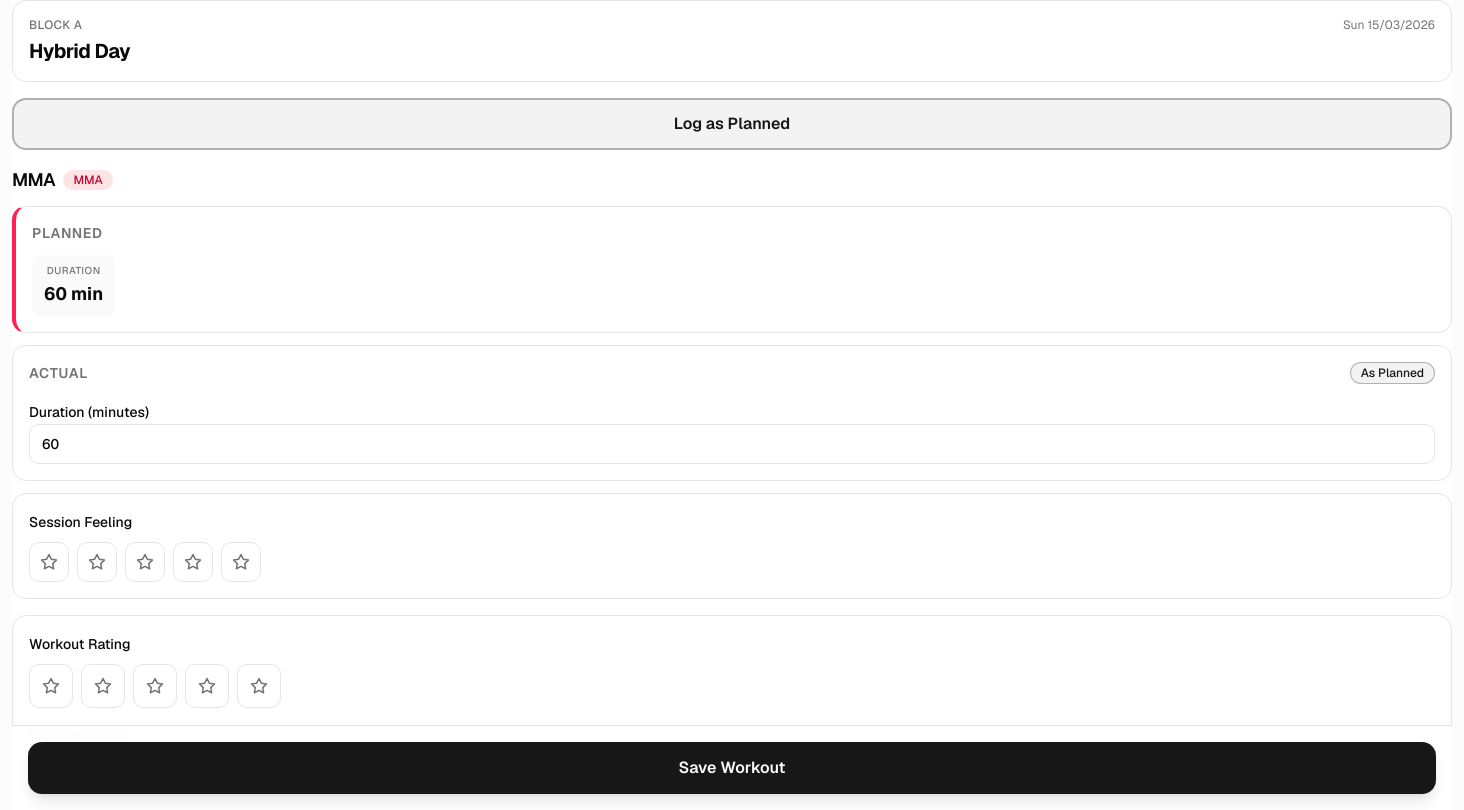
Per-section "As Planned" — mixed form MMA › fills MMA duration with planned value
This screenshot has width=1464, height=810.
Note: Modify duration
Clear the field with test id "actual-duration-0" at (732, 444), box [29, 424, 1435, 464]
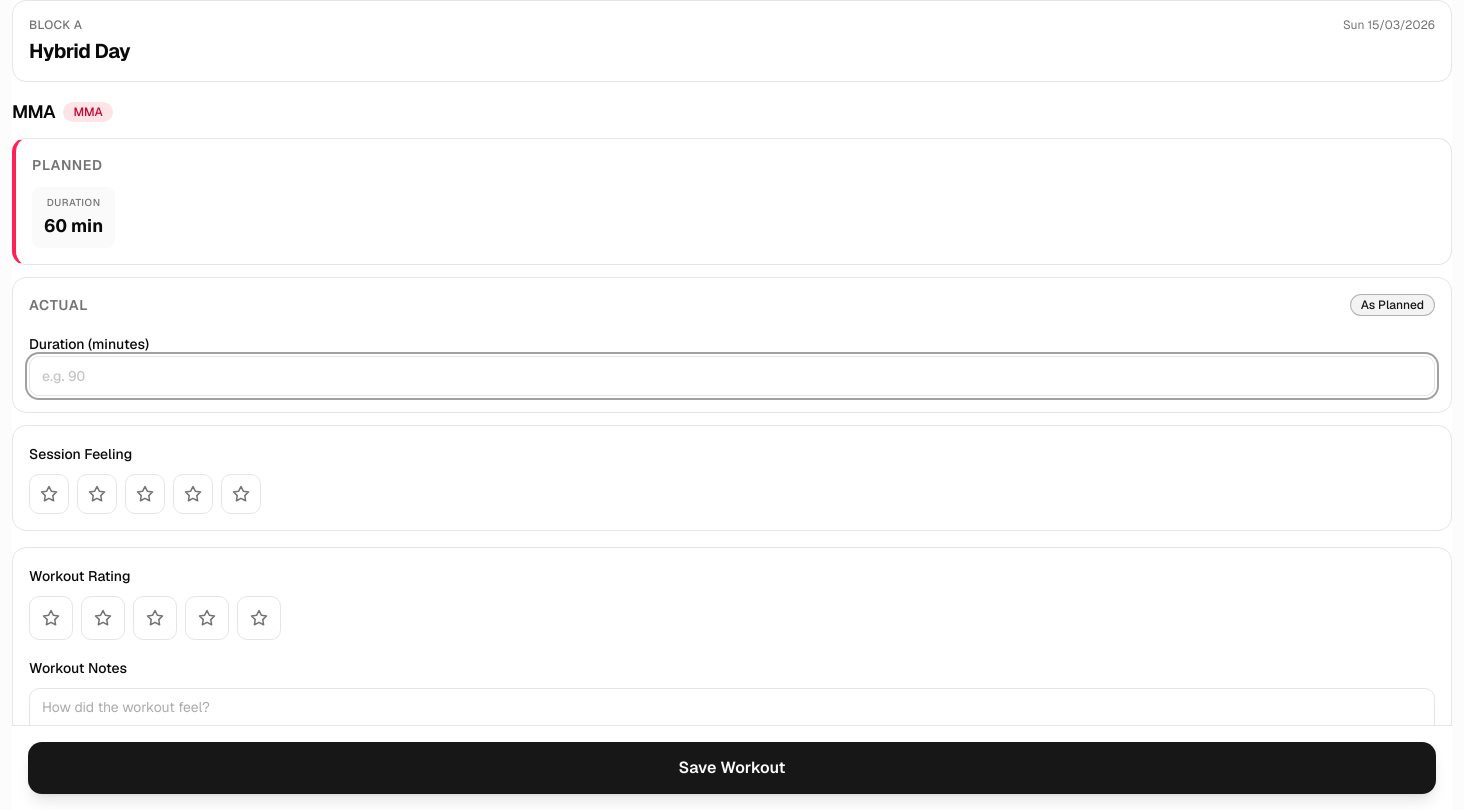
Type "45" into the field with test id "actual-duration-0" at (732, 376), box [29, 356, 1435, 396]
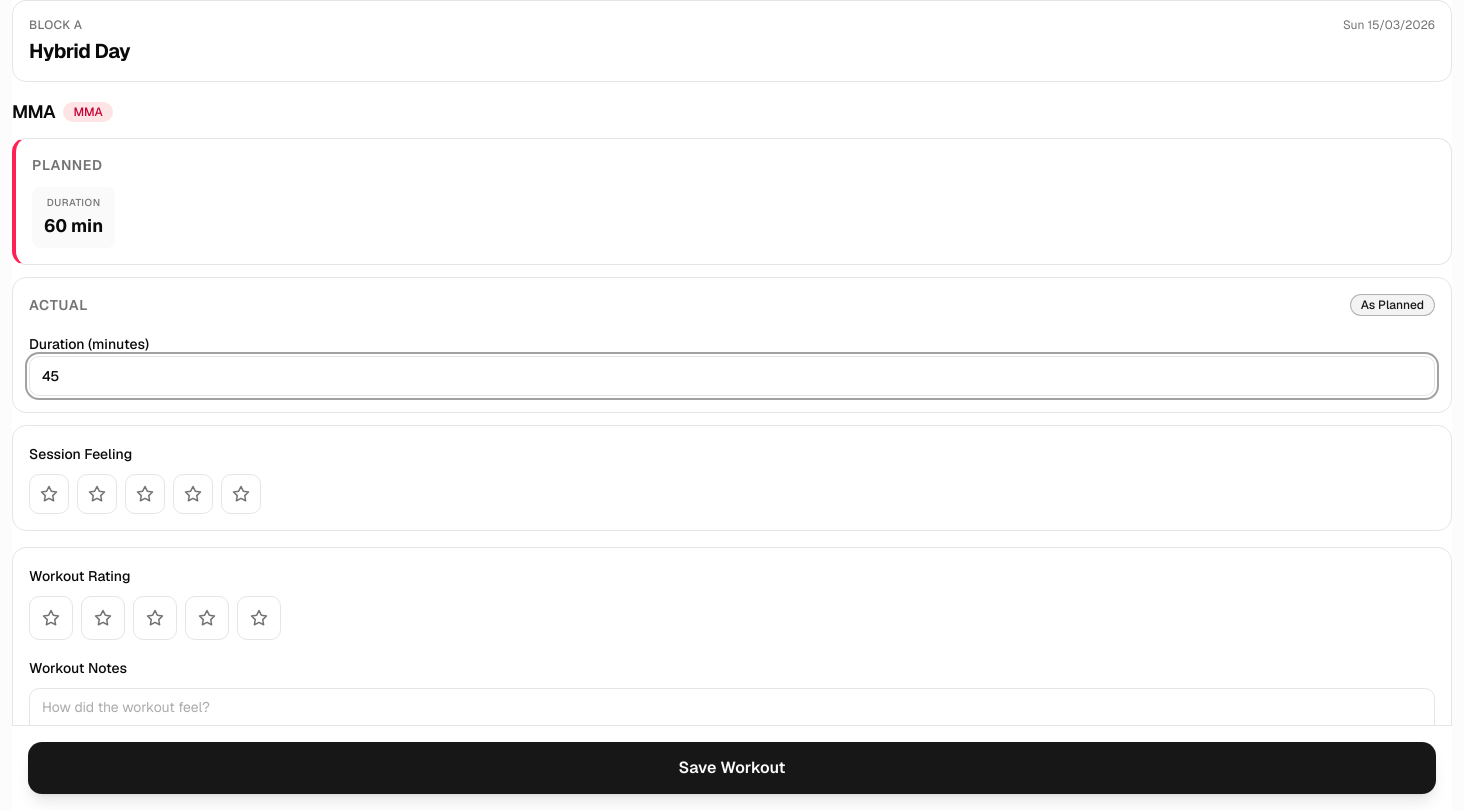
Note: Tap "As Planned"
Click the button with test id "as-planned-mma-0" at (1392, 305), box [1350, 294, 1435, 316]
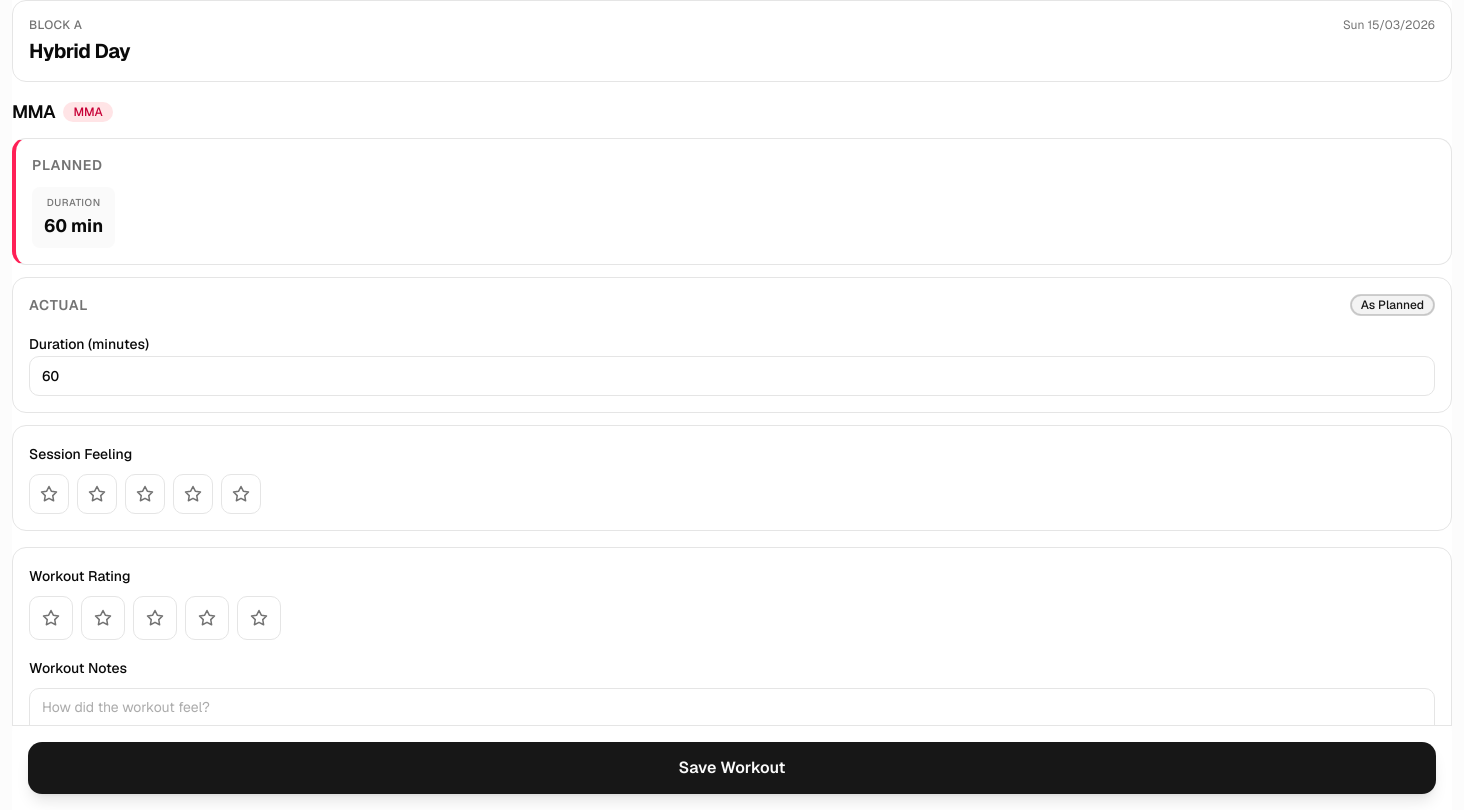
Check: the field with test id "actual-duration-0" holds "60", box [29, 356, 1435, 396]
